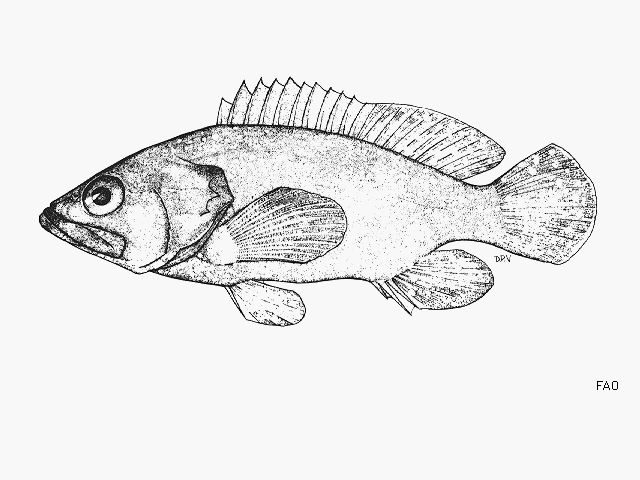fish: (38, 77, 598, 327)
